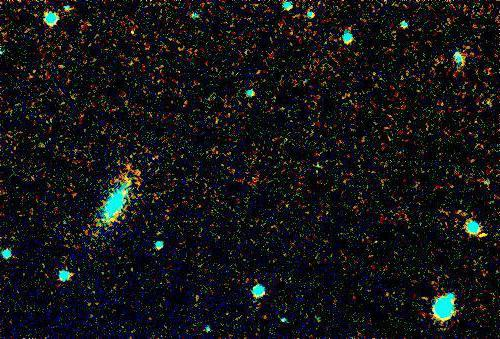star: (470, 220, 500, 250)
